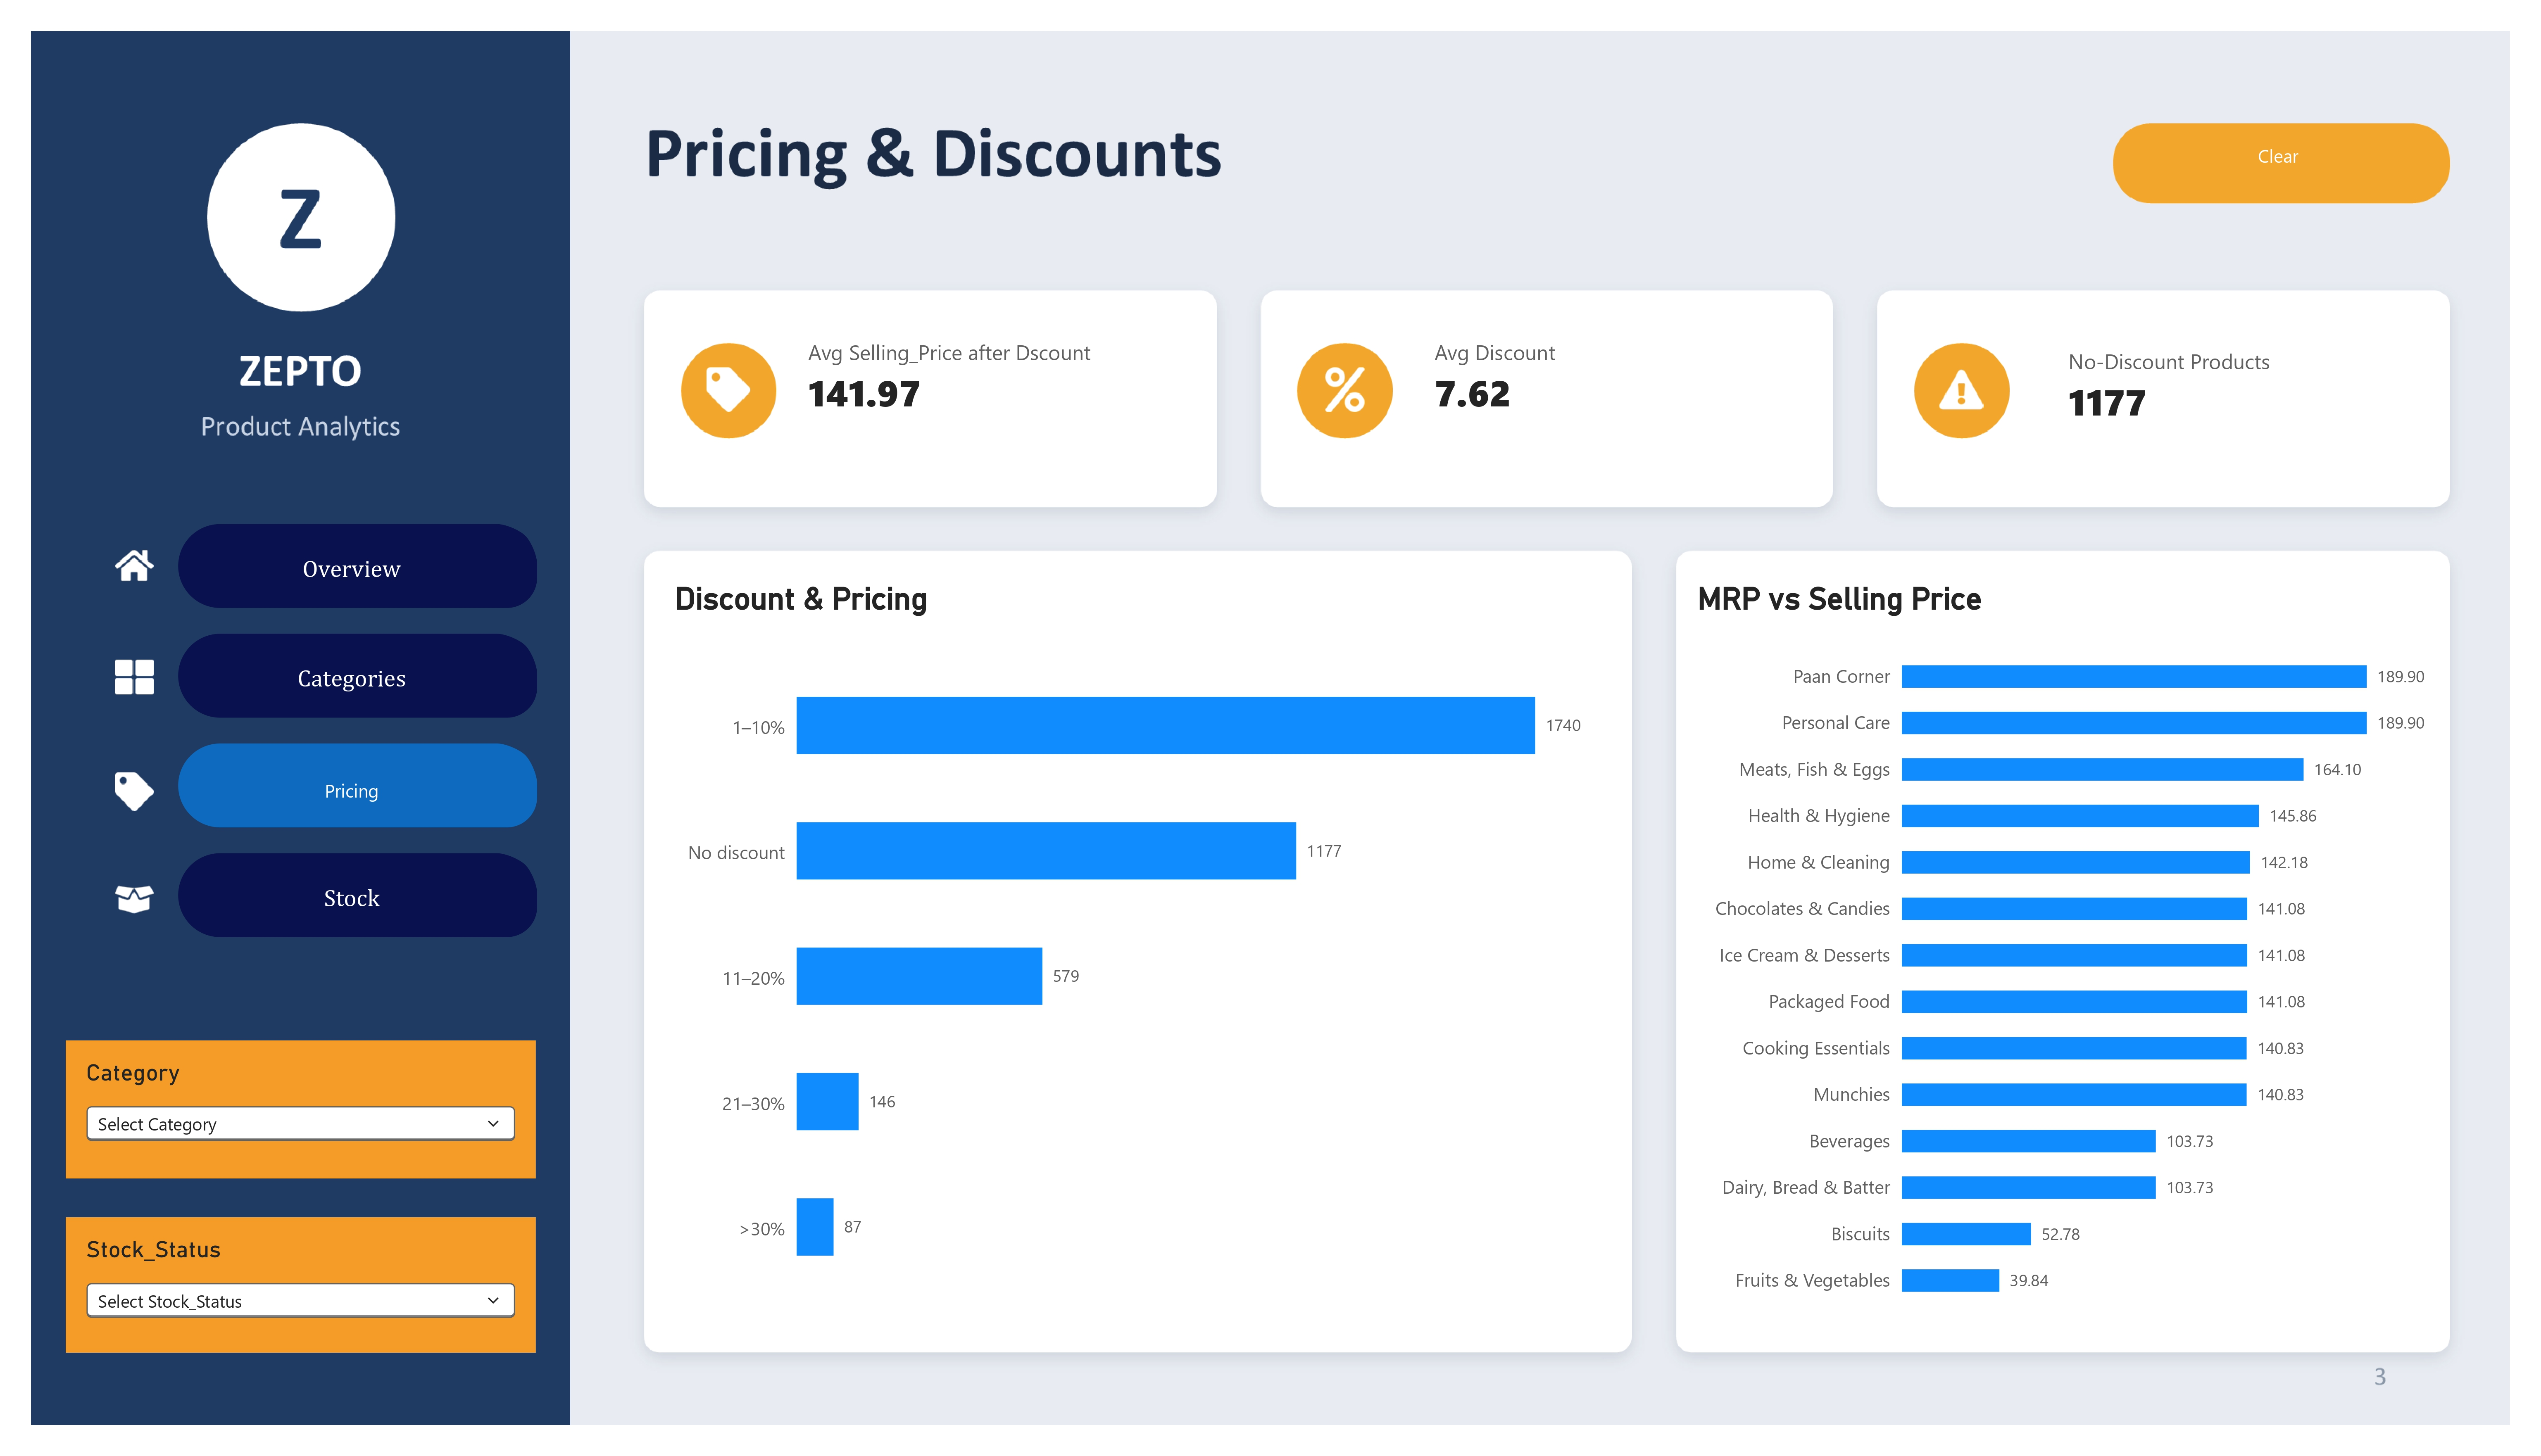

This screenshot's page, from the dashboard's own definition file:
{"tool":"powerbi","page":{"name":"Pricing","canvas":[1920,1080],"ordinal":2},"visuals":[{"type":"actionButton","box":[1608.8,70.6,260.6,68.8],"z":0},{"type":"pageNavigator","box":[114,382,278,322],"z":1000},{"type":"cardVisual","fields":{"Data":["Avg(zepto_cleaned.discounted_selling_price)"]},"box":[586.3,228,209.9,92.3],"z":2000},{"type":"textbox","box":[593.6,320.3,202.7,34.4],"z":3000},{"type":"cardVisual","fields":{"Data":["Avg(zepto_cleaned.discount_percent)"]},"box":[1071.3,228,220.8,81.4],"z":4000},{"type":"textbox","box":[1085.8,320.3,132.1,105],"z":5000},{"type":"cardVisual","fields":{"Data":["Count(zepto_cleaned.product_id)"]},"box":[1561.7,229.8,177.3,92.3],"z":6000},{"type":"clusteredBarChart","fields":{"Category":["zepto_cleaned.Discount Band"],"Y":["CountNonNull(zepto_cleaned.product_id)"]},"box":[488.6,456,729.3,551.9],"z":7000},{"type":"textbox","box":[506.7,410.8,1002.6,106.8],"z":8000},{"type":"textbox","box":[1292.1,410.8,597.2,54.3],"z":9000},{"type":"clusteredBarChart","fields":{"Category":["zepto_cleaned.category"],"Y":["Avg(zepto_cleaned.discounted_selling_price)"]},"box":[1292.1,465.1,577.3,542.9],"z":10000},{"type":"listSlicer","fields":{"Values":["zepto_cleaned.category"]},"box":[27.1,781.8,363.7,106.8],"z":10001},{"type":"listSlicer","fields":{"Values":["zepto_cleaned.stock_status"]},"box":[27.1,919.3,363.7,105],"z":10002}]}

Visuals, with their boxes on the page's 1920x1080 design canvas (x1, y1, x2, y2). These are canvas units, not pixel positions in the 2541x1456 screenshot, which may show the page scaled, cropped or inside an application window:
actionButton: (1609,71,1869,139)
pageNavigator: (114,382,392,704)
cardVisual - Avg(zepto_cleaned.discounted_selling_price): (586,228,796,320)
textbox: (594,320,796,355)
cardVisual - Avg(zepto_cleaned.discount_percent): (1071,228,1292,309)
textbox: (1086,320,1218,425)
cardVisual - Count(zepto_cleaned.product_id): (1562,230,1739,322)
clusteredBarChart - zepto_cleaned.Discount Band x CountNonNull(zepto_cleaned.product_id): (489,456,1218,1008)
textbox: (507,411,1509,518)
textbox: (1292,411,1889,465)
clusteredBarChart - zepto_cleaned.category x Avg(zepto_cleaned.discounted_selling_price): (1292,465,1869,1008)
listSlicer - zepto_cleaned.category: (27,782,391,889)
listSlicer - zepto_cleaned.stock_status: (27,919,391,1024)
